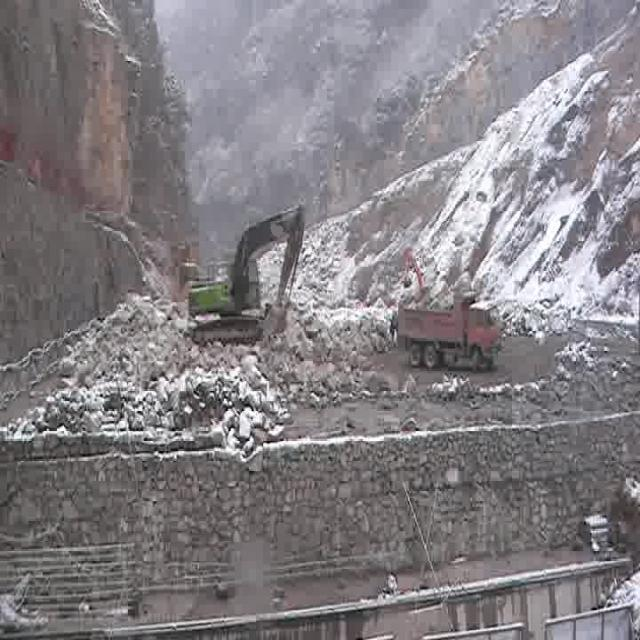excavator: (188, 205, 305, 344), (404, 249, 423, 288)
truck: (398, 280, 502, 368)
